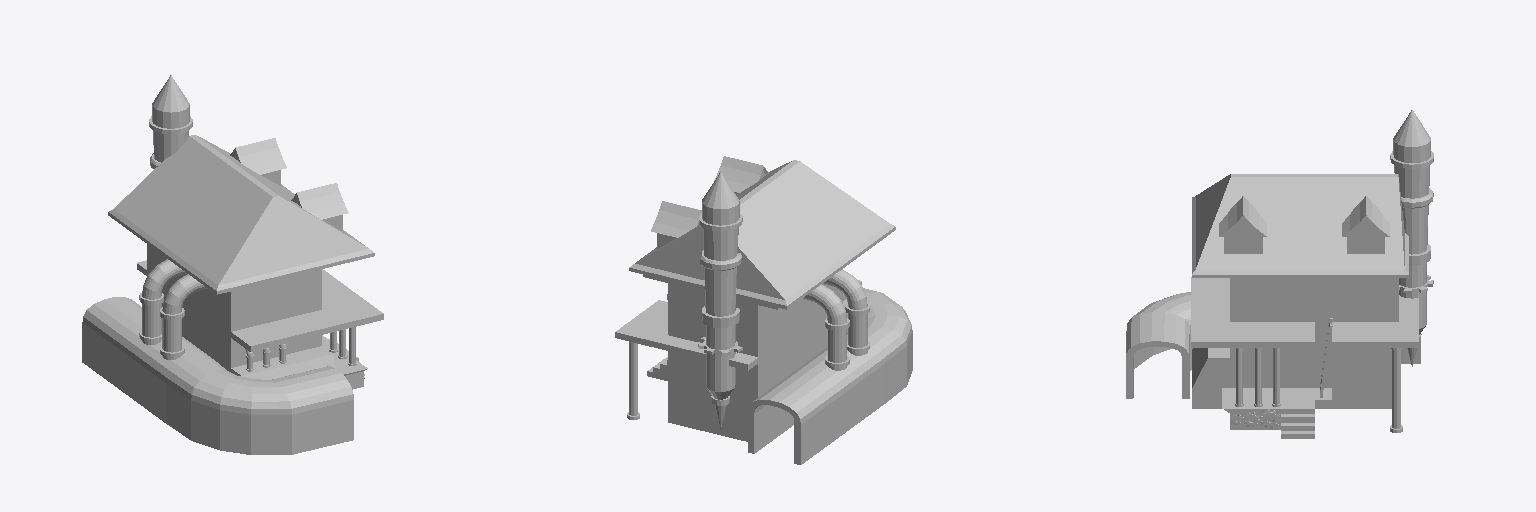
Rendered from Building 2.obj.
3 views of the same model, side by side, from view 1: azimuth 30°, elevation 25°; view 2: azimuth 150°, elevation 25°; view 3: azimuth 270°, elevation 25° (orthographic).
Visible parts, largest first — view 1: pCylinder35; view 2: pCylinder35; view 3: pCylinder35.
Part boxes in pixels (x1,y1,x2,y2): pCylinder35: (82,75,383,454); pCylinder35: (615,156,912,464); pCylinder35: (1126,110,1433,438).
Bounding box in the file's own units: 78.23 × 99.59 × 101.